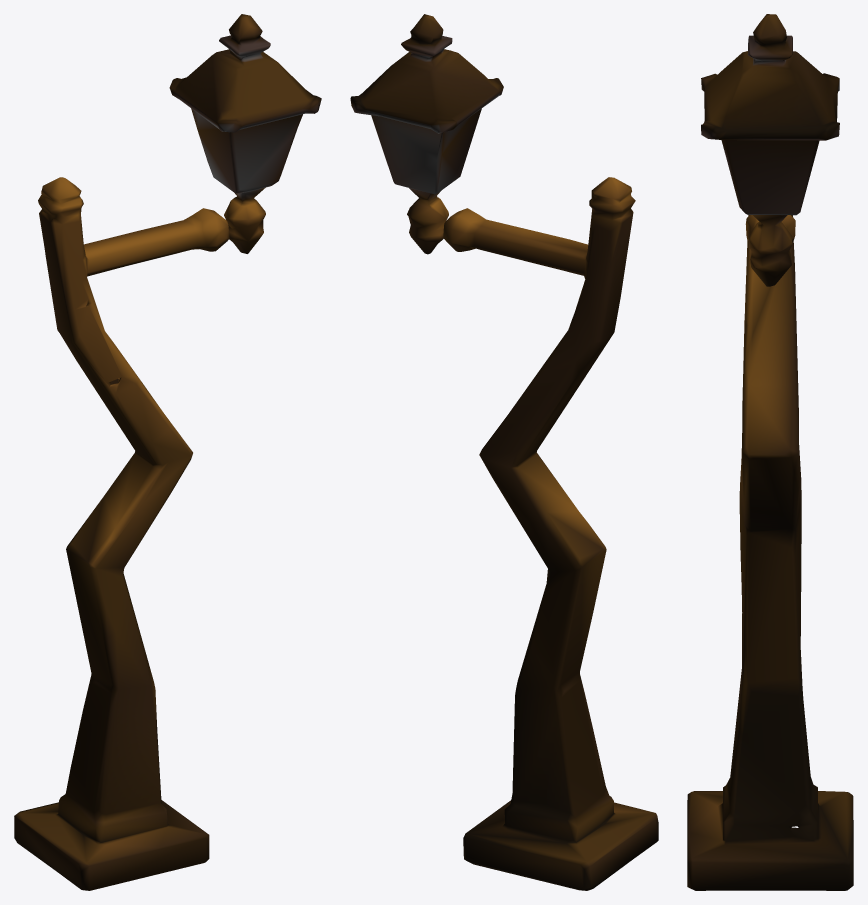
The model's file is gen3d-crooked-lamppost-lod1.glb.
3 renders of one model, left to right at view 1: azimuth 30°, elevation 25°; view 2: azimuth 150°, elevation 25°; view 3: azimuth 270°, elevation 25°, orthographic. The views are drawn at different scales.
Visible parts, largest first — view 1: part_0; view 2: part_0; view 3: part_0.
Part boxes in pixels (x1=…): part_0: x1=14, y1=14, x2=321, y2=890; part_0: x1=350, y1=14, x2=658, y2=890; part_0: x1=687, y1=14, x2=853, y2=890.
Size of the model in its own units: 0.3309 by 0.998 by 0.1645.
